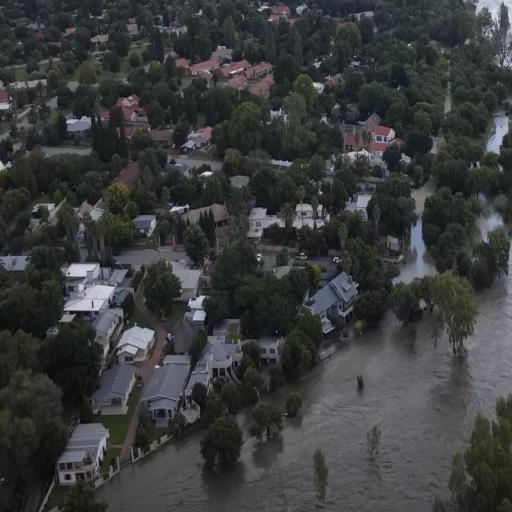flood: (96, 252, 512, 512), (397, 175, 437, 282), (397, 219, 435, 282), (478, 201, 504, 241), (487, 111, 510, 153), (477, 0, 512, 23), (431, 133, 440, 154)
house: (301, 270, 362, 333), (58, 421, 110, 492), (142, 355, 189, 430), (88, 362, 139, 416), (184, 202, 233, 242), (88, 307, 124, 360), (114, 328, 160, 367), (254, 332, 288, 380), (209, 344, 242, 389), (65, 260, 101, 298), (244, 64, 275, 100), (245, 201, 268, 248), (186, 57, 219, 86), (115, 93, 147, 121), (184, 125, 212, 155), (345, 192, 374, 219), (66, 115, 93, 140), (133, 212, 157, 240), (384, 230, 405, 257), (374, 123, 397, 147), (294, 202, 314, 225)
